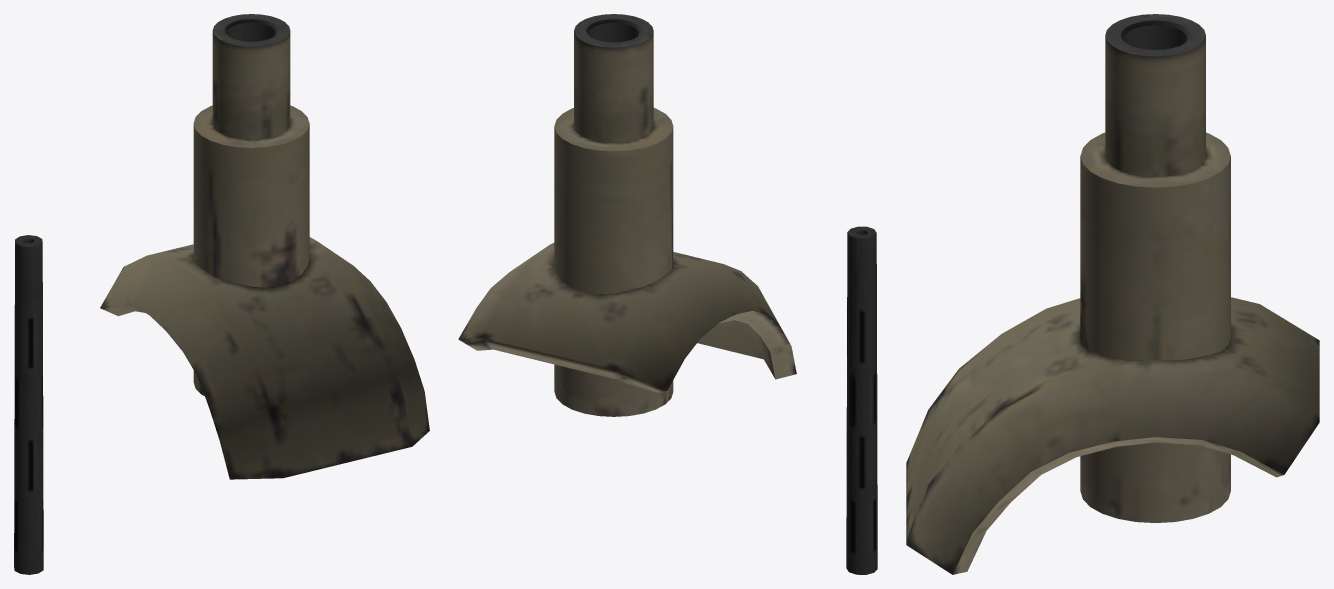
The model's file is Gun_07.glb.
The picture shows the model from 3 angles, left to right: view 1: azimuth 30°, elevation 25°; view 2: azimuth 150°, elevation 25°; view 3: azimuth 270°, elevation 25°; orthographic projection. The views are drawn at different scales.
Parts seen in each view (by area): view 1: set_0_group_0; view 2: set_0_group_0; view 3: set_0_group_0.
Part boxes in pixels (x1,y1,x2,y2): set_0_group_0: [14, 14, 429, 574]; set_0_group_0: [458, 14, 877, 574]; set_0_group_0: [906, 14, 1319, 574].
Bounding box in the file's own units: 0.6142 × 0.8004 × 0.4878.
1 material, 1 textured.
